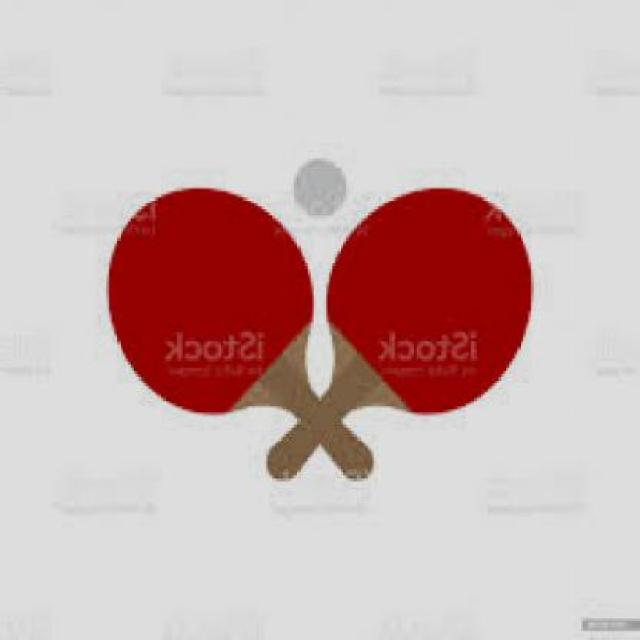table_tennis_racket: (106, 188, 534, 483)
